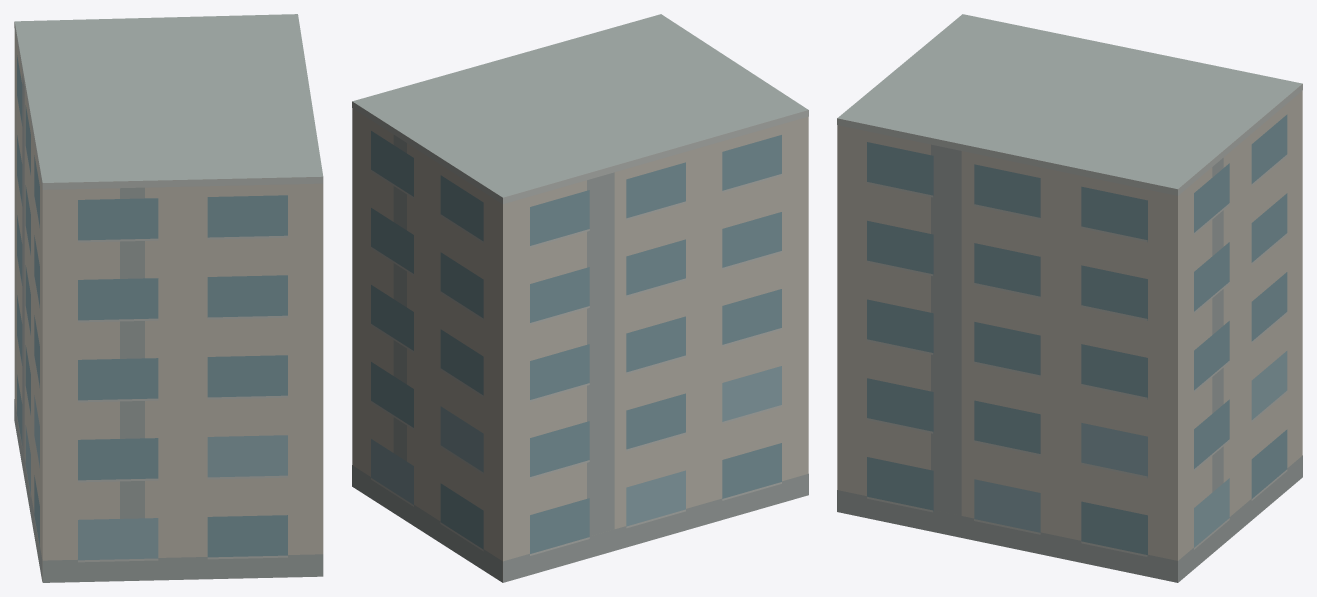
The model's file is survey-upis-33005430.glb.
The picture shows the model from 3 angles, left to right: view 1: azimuth 30°, elevation 25°; view 2: azimuth 150°, elevation 25°; view 3: azimuth 270°, elevation 25°; orthographic projection. The views are drawn at different scales.
Parts seen in each view (by area): view 1: survey-upis-33005430.tmp; view 2: survey-upis-33005430.tmp; view 3: survey-upis-33005430.tmp.
Boxes of the visible parts, x1,y1,x2,y2 form: survey-upis-33005430.tmp: (14, 14, 323, 582); survey-upis-33005430.tmp: (352, 14, 808, 582); survey-upis-33005430.tmp: (837, 14, 1302, 582).
Bounding box in the file's own units: 13.57 × 14.2 × 15.23.
